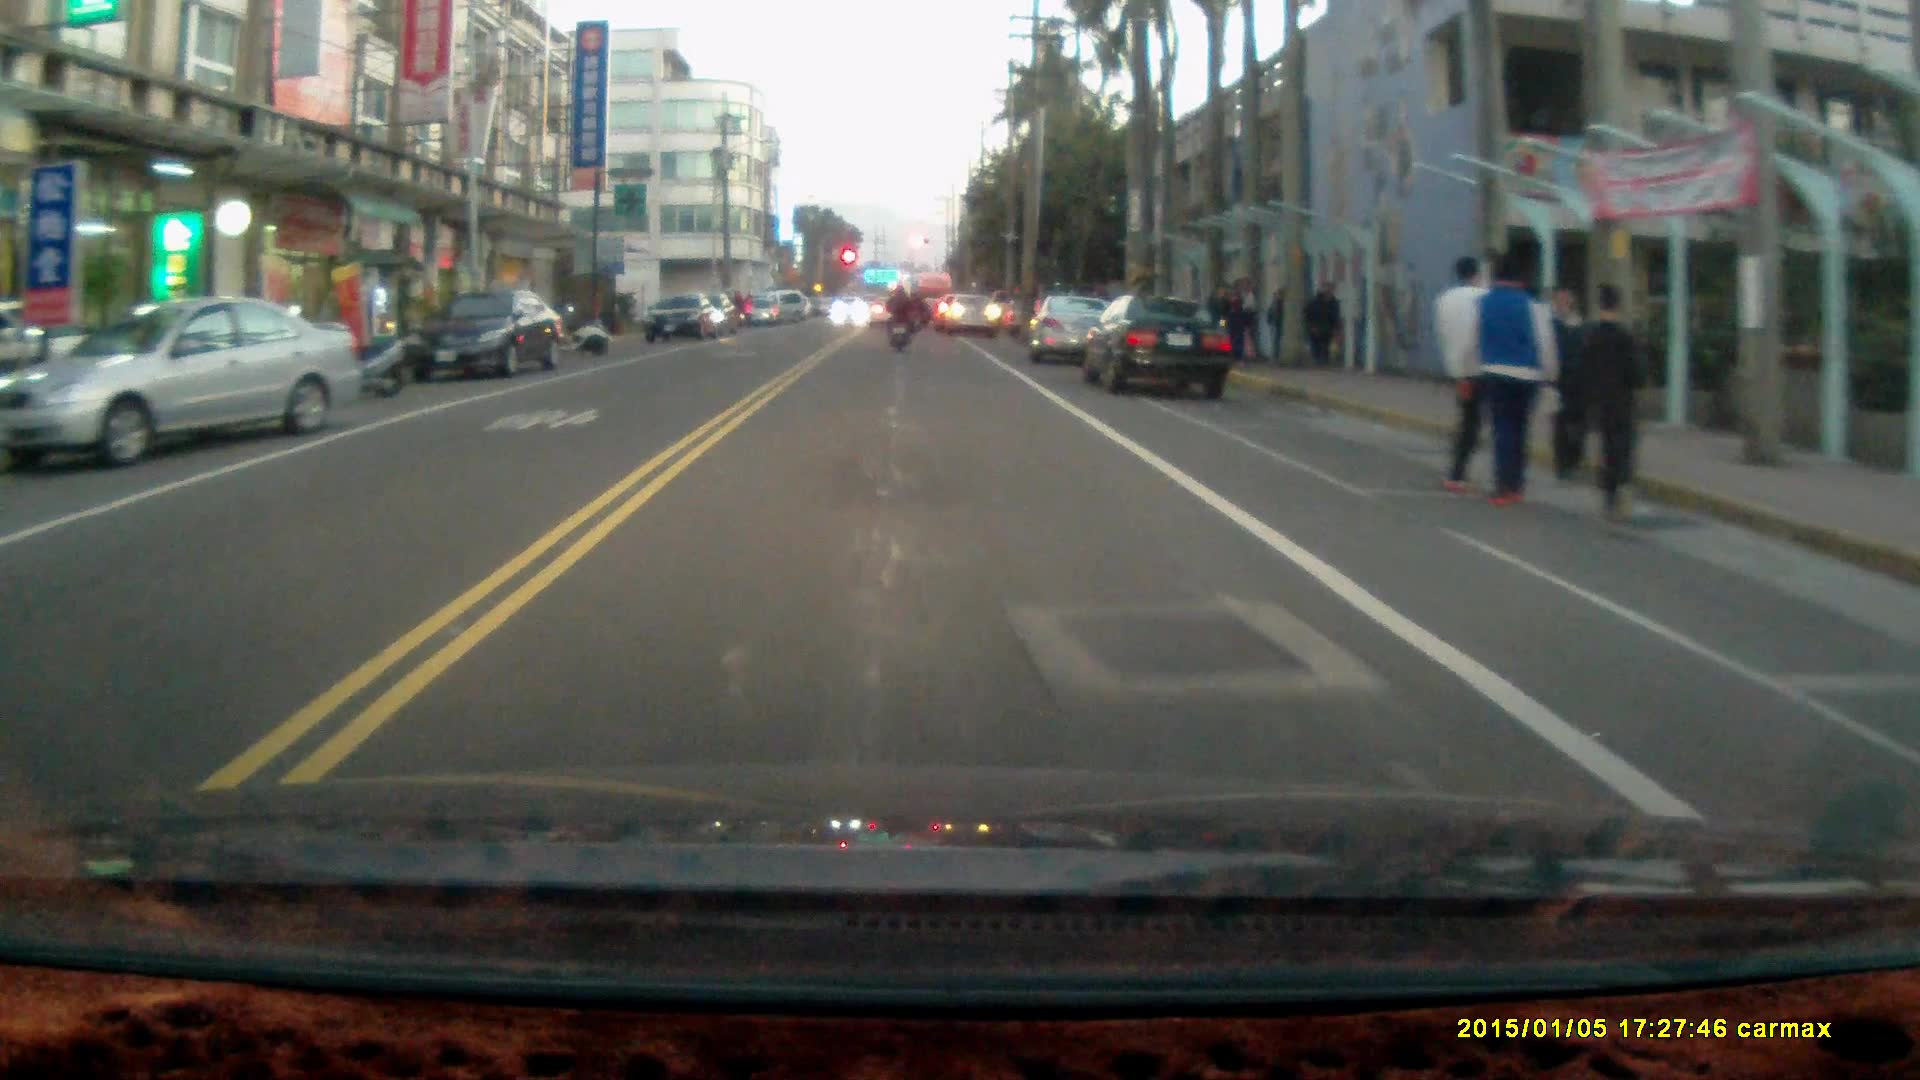pedestrian: (1462, 247, 1564, 512), (1575, 278, 1649, 529), (1432, 252, 1500, 498), (1541, 282, 1590, 487), (1304, 276, 1343, 372), (1214, 282, 1248, 367), (1227, 272, 1257, 363)
rider: (882, 279, 913, 351)
vehicle: (3, 301, 353, 469), (1084, 296, 1240, 405), (414, 287, 566, 381), (1030, 294, 1118, 368), (643, 289, 727, 344), (947, 293, 1001, 338)
